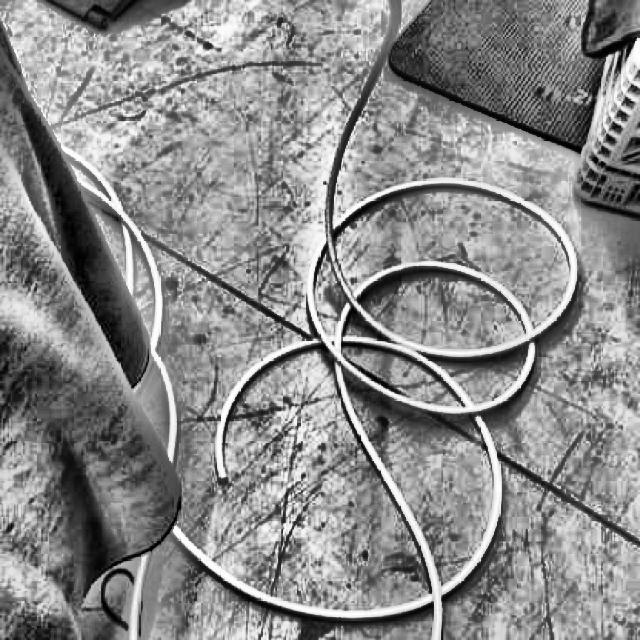Cable: (61, 0, 577, 640)
